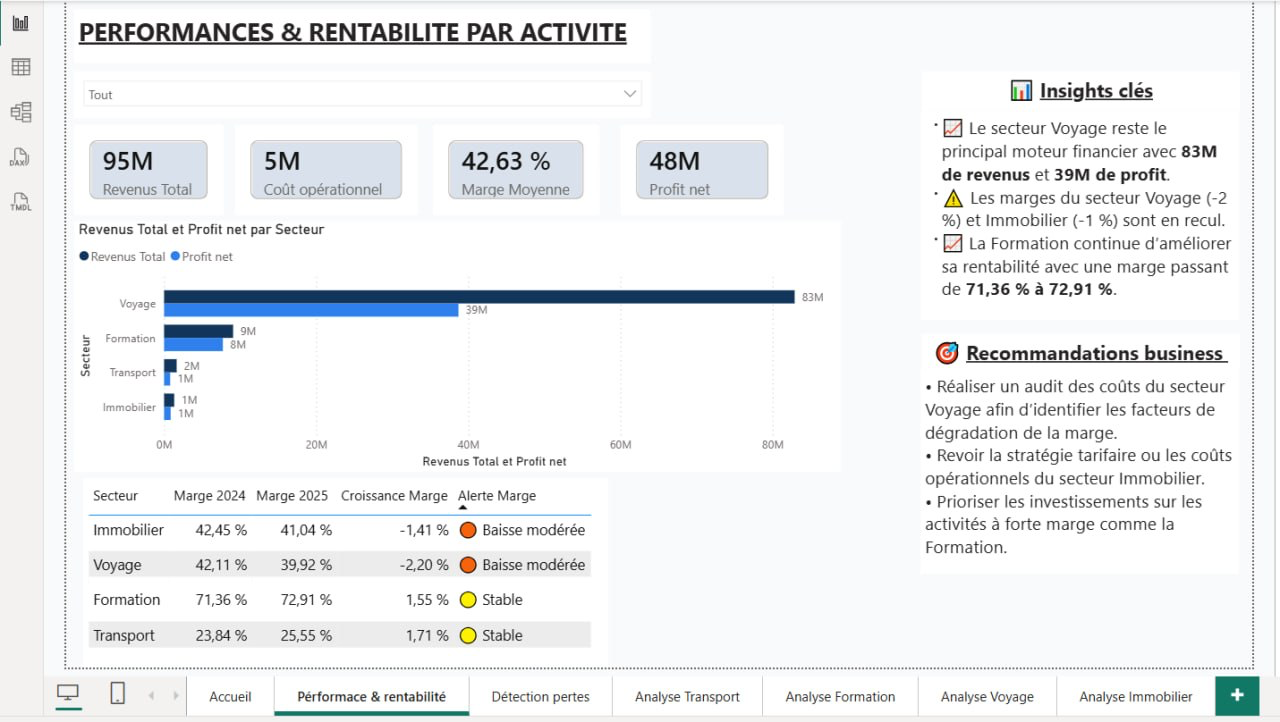

What the dashboard file says about the page in this screenshot:
{"tool":"powerbi","page":{"name":"Pérformace & rentabilité","canvas":[1280,720],"ordinal":1},"visuals":[{"type":"textbox","box":[8.4,9.7,622.5,57.9],"z":0},{"type":"slicer","fields":{"Values":["Calendar.Année","Calendar.Mois","Transport.Ligne","Transport.Statut_Trajet"]},"box":[8.4,76,622.5,50.7],"z":1000},{"type":"cardVisual","fields":{"Data":["Alerts_Opportunities.Profit net"]},"box":[598.4,133.9,176.1,97.7],"z":2000},{"type":"cardVisual","fields":{"Data":["Alerts_Opportunities.Marge Moyenne"]},"box":[395.7,133.9,179.8,97.7],"z":3000},{"type":"cardVisual","fields":{"Data":["Alerts_Opportunities.Revenus Total"]},"box":[8.4,133.9,161.7,97.7],"z":4000},{"type":"cardVisual","fields":{"Data":["Sum(Executive_KPIs.Cout_Operationnel)"]},"box":[182.2,133.9,197.9,97.7],"z":5000},{"type":"clusteredBarChart","fields":{"Category":["Alerts_Opportunities.Secteur"],"Y":["Alerts_Opportunities.Revenus Total","Alerts_Opportunities.Profit net"]},"box":[8.4,237.7,827.6,271.4],"z":6000},{"type":"tableEx","fields":{"Values":["Alerts_Opportunities.Secteur","Executive_KPIs.Marge 2024","Executive_KPIs.Marge 2025","Alerts_Opportunities.Croissance Marge","Executive_KPIs.Alerte Marge"]},"box":[18.1,515.2,567,205.1],"z":7000},{"type":"textbox","box":[922.9,76,343.8,43.4],"z":8000},{"type":"textbox","box":[921.7,119.4,343.8,225.6],"z":9000},{"type":"textbox","box":[922.9,359.5,343.8,38.6],"z":10000},{"type":"textbox","box":[921.7,398.1,343.8,220.8],"z":11000}]}

Visuals, with their boxes on the page's 1280x720 design canvas (x1, y1, x2, y2). These are canvas units, not pixel positions in the 1280x722 screenshot, which may show the page scaled, cropped or inside an application window:
textbox: box(8, 10, 631, 68)
slicer - Calendar.Année x Calendar.Mois: box(8, 76, 631, 127)
cardVisual - Alerts_Opportunities.Profit net: box(598, 134, 774, 232)
cardVisual - Alerts_Opportunities.Marge Moyenne: box(396, 134, 576, 232)
cardVisual - Alerts_Opportunities.Revenus Total: box(8, 134, 170, 232)
cardVisual - Sum(Executive_KPIs.Cout_Operationnel): box(182, 134, 380, 232)
clusteredBarChart - Alerts_Opportunities.Secteur x Alerts_Opportunities.Revenus Total: box(8, 238, 836, 509)
tableEx - Alerts_Opportunities.Secteur x Executive_KPIs.Marge 2024: box(18, 515, 585, 720)
textbox: box(923, 76, 1267, 119)
textbox: box(922, 119, 1266, 345)
textbox: box(923, 360, 1267, 398)
textbox: box(922, 398, 1266, 619)
